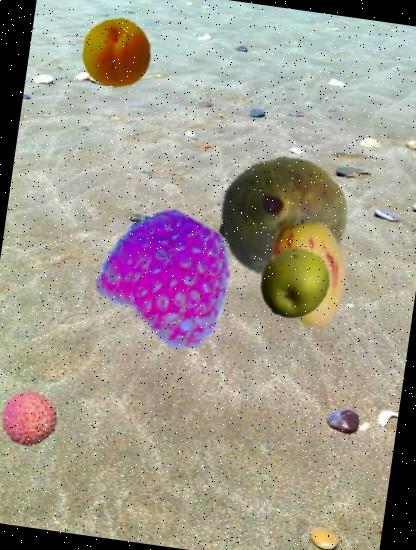Apple: (254, 242, 336, 324)
Beetroot: (206, 141, 356, 291)
Lychee: (0, 387, 61, 451)
Peach: (76, 12, 158, 93)
Pepino: (248, 214, 373, 338)
Raspberry: (96, 202, 245, 352)
